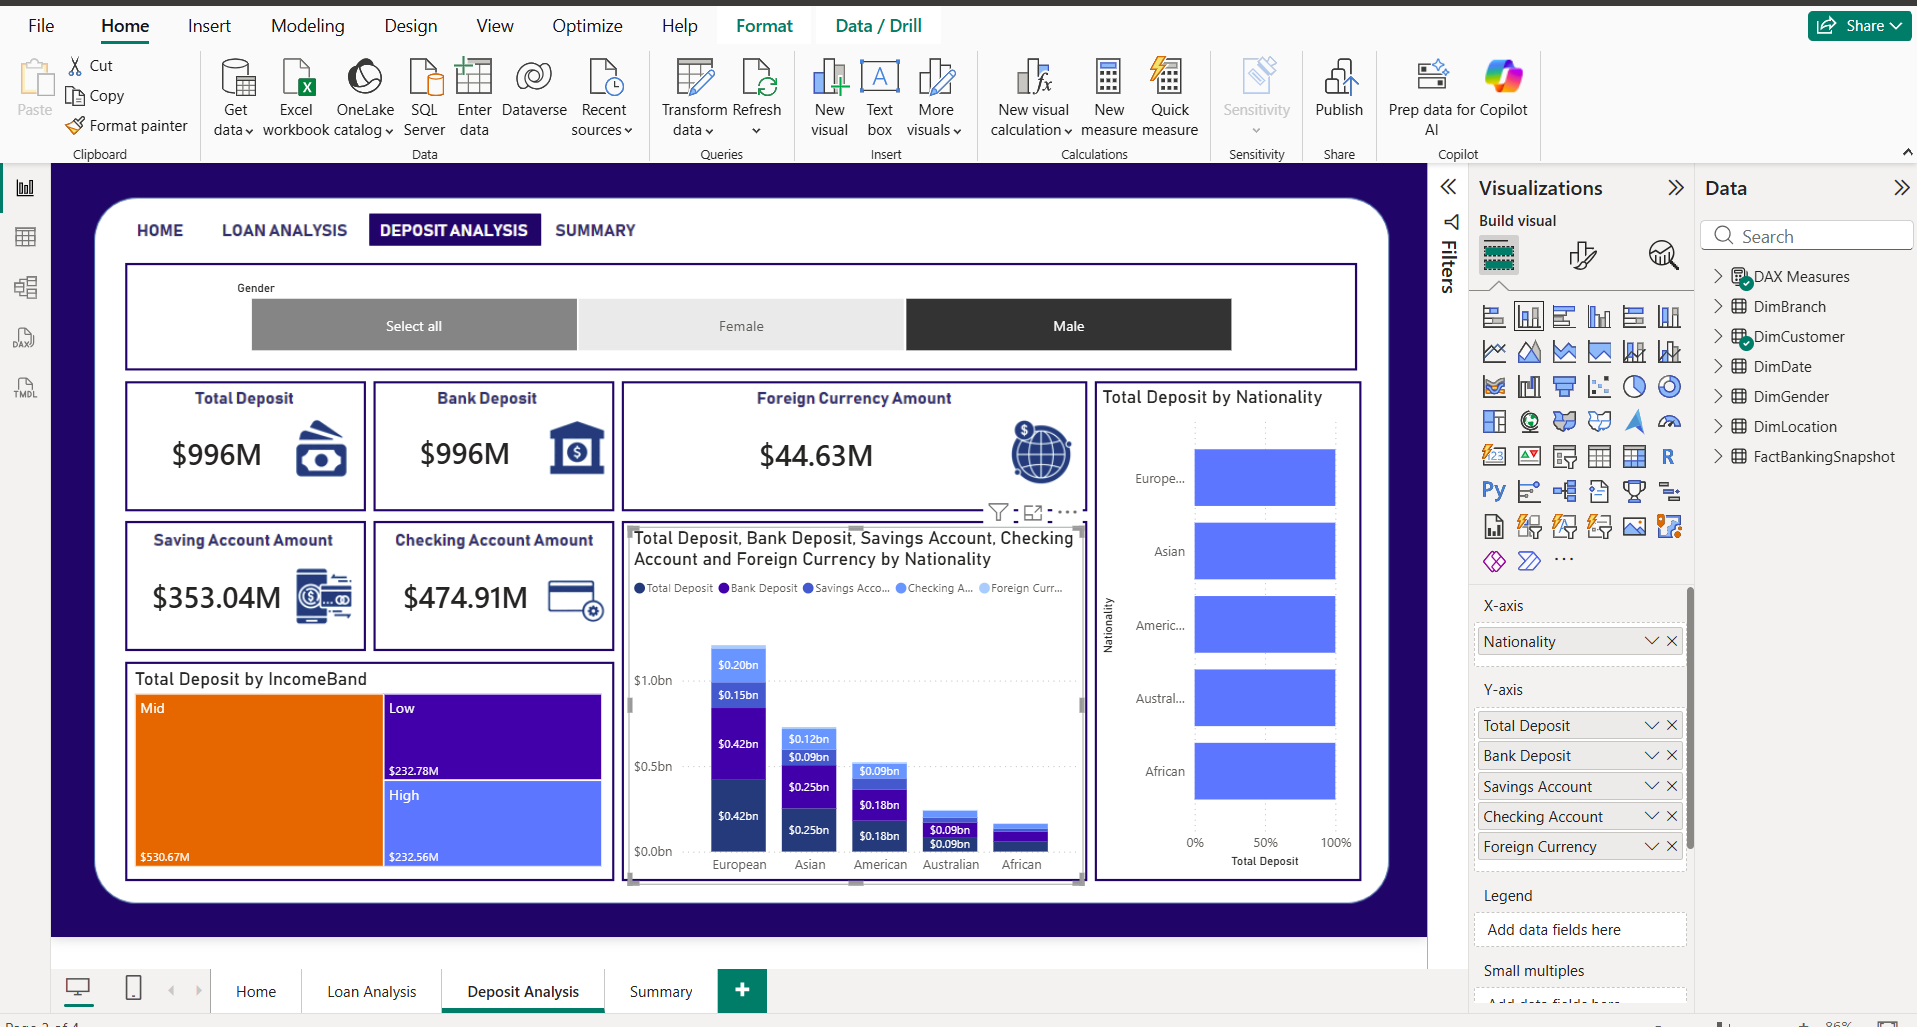

Layout of this report page (visuals, bound fields, positions):
{"tool":"powerbi","page":{"name":"Deposit Analysis","canvas":[1280,720],"ordinal":2},"visuals":[{"type":"card","fields":{"Values":["DAX Measures.Total Deposit"]},"box":[72.7,226.3,161.8,90.3],"z":0},{"type":"card","fields":{"Values":["DAX Measures.Bank Deposit"]},"box":[299,226.3,172.4,89.1],"z":1000},{"type":"card","fields":{"Values":["DAX Measures.Savings Account"]},"box":[72.7,360,161.8,89.1],"z":2000},{"type":"card","fields":{"Values":["DAX Measures.Checking Accounts"]},"box":[300.2,360,171.2,89.1],"z":3000},{"type":"slicer","fields":{"Values":["DimGender.Gender"]},"box":[160,105,961.7,76.7],"z":4000},{"type":"card","fields":{"Values":["DAX Measures.Foreign Currency Account"]},"box":[537.1,227.5,349.4,89.1],"z":5000},{"type":"treemap","fields":{"Values":["DAX Measures.Total Deposit"],"Group":["DimCustomer.IncomeBand"]},"box":[72.7,470.2,444.4,190],"z":6000},{"type":"columnChart","fields":{"Y":["DAX Measures.Total Deposit","DAX Measures.Bank Deposit","DAX Measures.Savings Account","DAX Measures.Checking Accounts","DAX Measures.Foreign Currency Account"],"Category":["DimCustomer.Nationality"]},"box":[537.1,338.9,423.3,331.9],"z":7000},{"type":"actionButton","box":[72.8,44.2,58.5,31],"z":8000},{"type":"actionButton","box":[160,44.2,119.4,31],"z":9000},{"type":"actionButton","box":[471.6,44.2,83.6,31],"z":10000},{"type":"hundredPercentStackedBarChart","fields":{"Y":["DAX Measures.Total Deposit"],"Category":["DimCustomer.Nationality"]},"box":[973.3,206.7,241.7,453.3],"z":11000}]}

Visuals, with their boxes on the page's 1280x720 design canvas (x1, y1, x2, y2). These are canvas units, not pixel positions in the 1917x1027 screenshot, which may show the page scaled, cropped or inside an application window:
card - DAX Measures.Total Deposit: Rect(73, 226, 234, 317)
card - DAX Measures.Bank Deposit: Rect(299, 226, 471, 315)
card - DAX Measures.Savings Account: Rect(73, 360, 234, 449)
card - DAX Measures.Checking Accounts: Rect(300, 360, 471, 449)
slicer - DimGender.Gender: Rect(160, 105, 1122, 182)
card - DAX Measures.Foreign Currency Account: Rect(537, 228, 886, 317)
treemap - DAX Measures.Total Deposit x DimCustomer.IncomeBand: Rect(73, 470, 517, 660)
columnChart - DAX Measures.Total Deposit x DAX Measures.Bank Deposit: Rect(537, 339, 960, 671)
actionButton: Rect(73, 44, 131, 75)
actionButton: Rect(160, 44, 279, 75)
actionButton: Rect(472, 44, 555, 75)
hundredPercentStackedBarChart - DAX Measures.Total Deposit x DimCustomer.Nationality: Rect(973, 207, 1215, 660)
